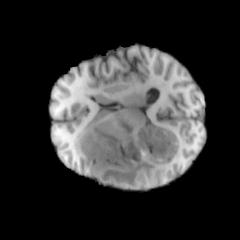glioma: (74, 114, 181, 188)
